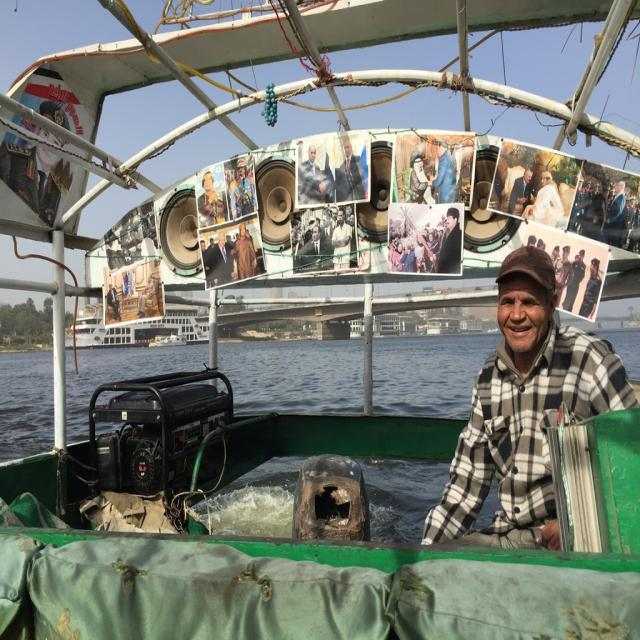Boat: (40, 79, 636, 559), (147, 331, 190, 347)
